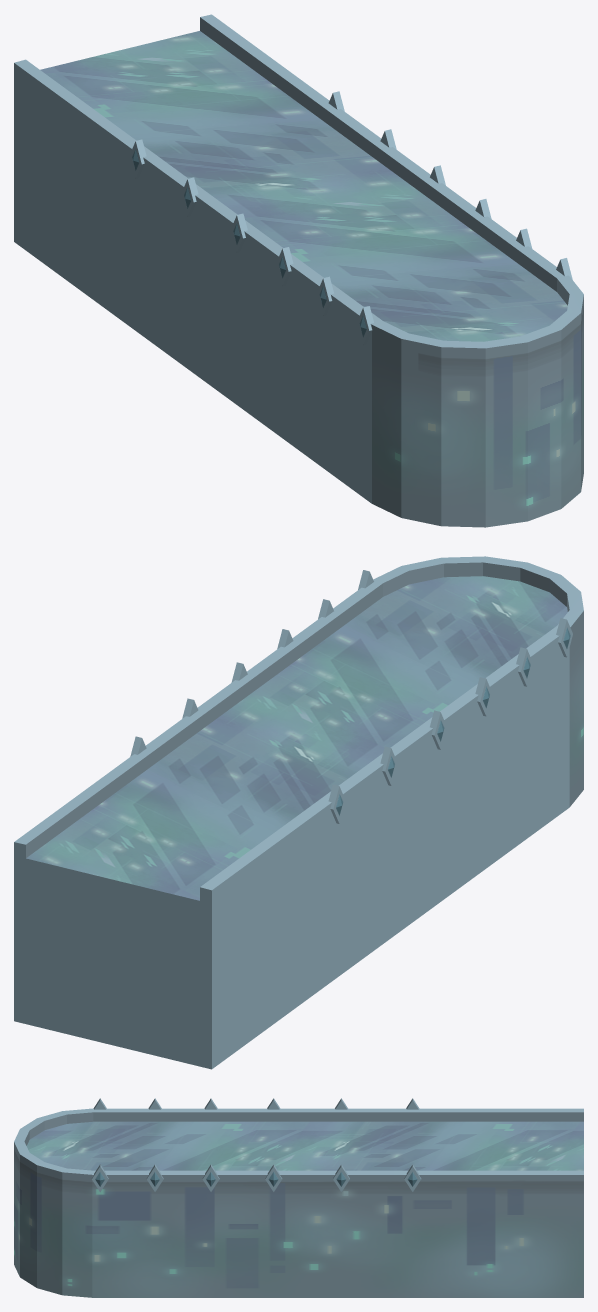
The model's file is Main_1006_obj_01.fbx.
3 renders of one model, top to bottom at view 1: azimuth 30°, elevation 25°; view 2: azimuth 150°, elevation 25°; view 3: azimuth 270°, elevation 25°, orthographic. The views are drawn at different scales.
Parts seen in each view (by area): view 1: Circle.005, Cube.018, Cube.020; view 2: Circle.005, Cube.020; view 3: Circle.005, Cube.016, Cube.017, Cube.020, Cube.014, Cube.015, Cube.018.
Boxes of the visible parts, x1=… form: Circle.005: x1=14, y1=14, x2=583, y2=527; Cube.018: x1=181, y1=129, x2=396, y2=216; Cube.020: x1=129, y1=91, x2=344, y2=178; Circle.005: x1=14, y1=556, x2=583, y2=1069; Cube.020: x1=130, y1=736, x2=345, y2=823; Circle.005: x1=14, y1=1108, x2=583, y2=1297; Cube.016: x1=202, y1=1098, x2=219, y2=1191; Cube.017: x1=265, y1=1098, x2=282, y2=1192; Cube.020: x1=404, y1=1098, x2=421, y2=1191; Cube.014: x1=91, y1=1098, x2=108, y2=1191; Cube.015: x1=146, y1=1098, x2=163, y2=1191; Cube.018: x1=333, y1=1098, x2=349, y2=1191.
Bounding box in the file's own units: 196 × 173 × 673.
